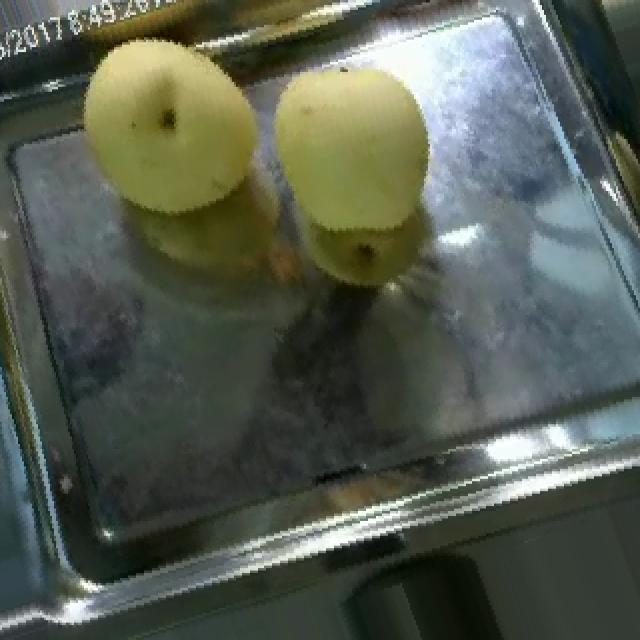Fruit: (240, 32, 470, 318), (50, 8, 286, 243)
